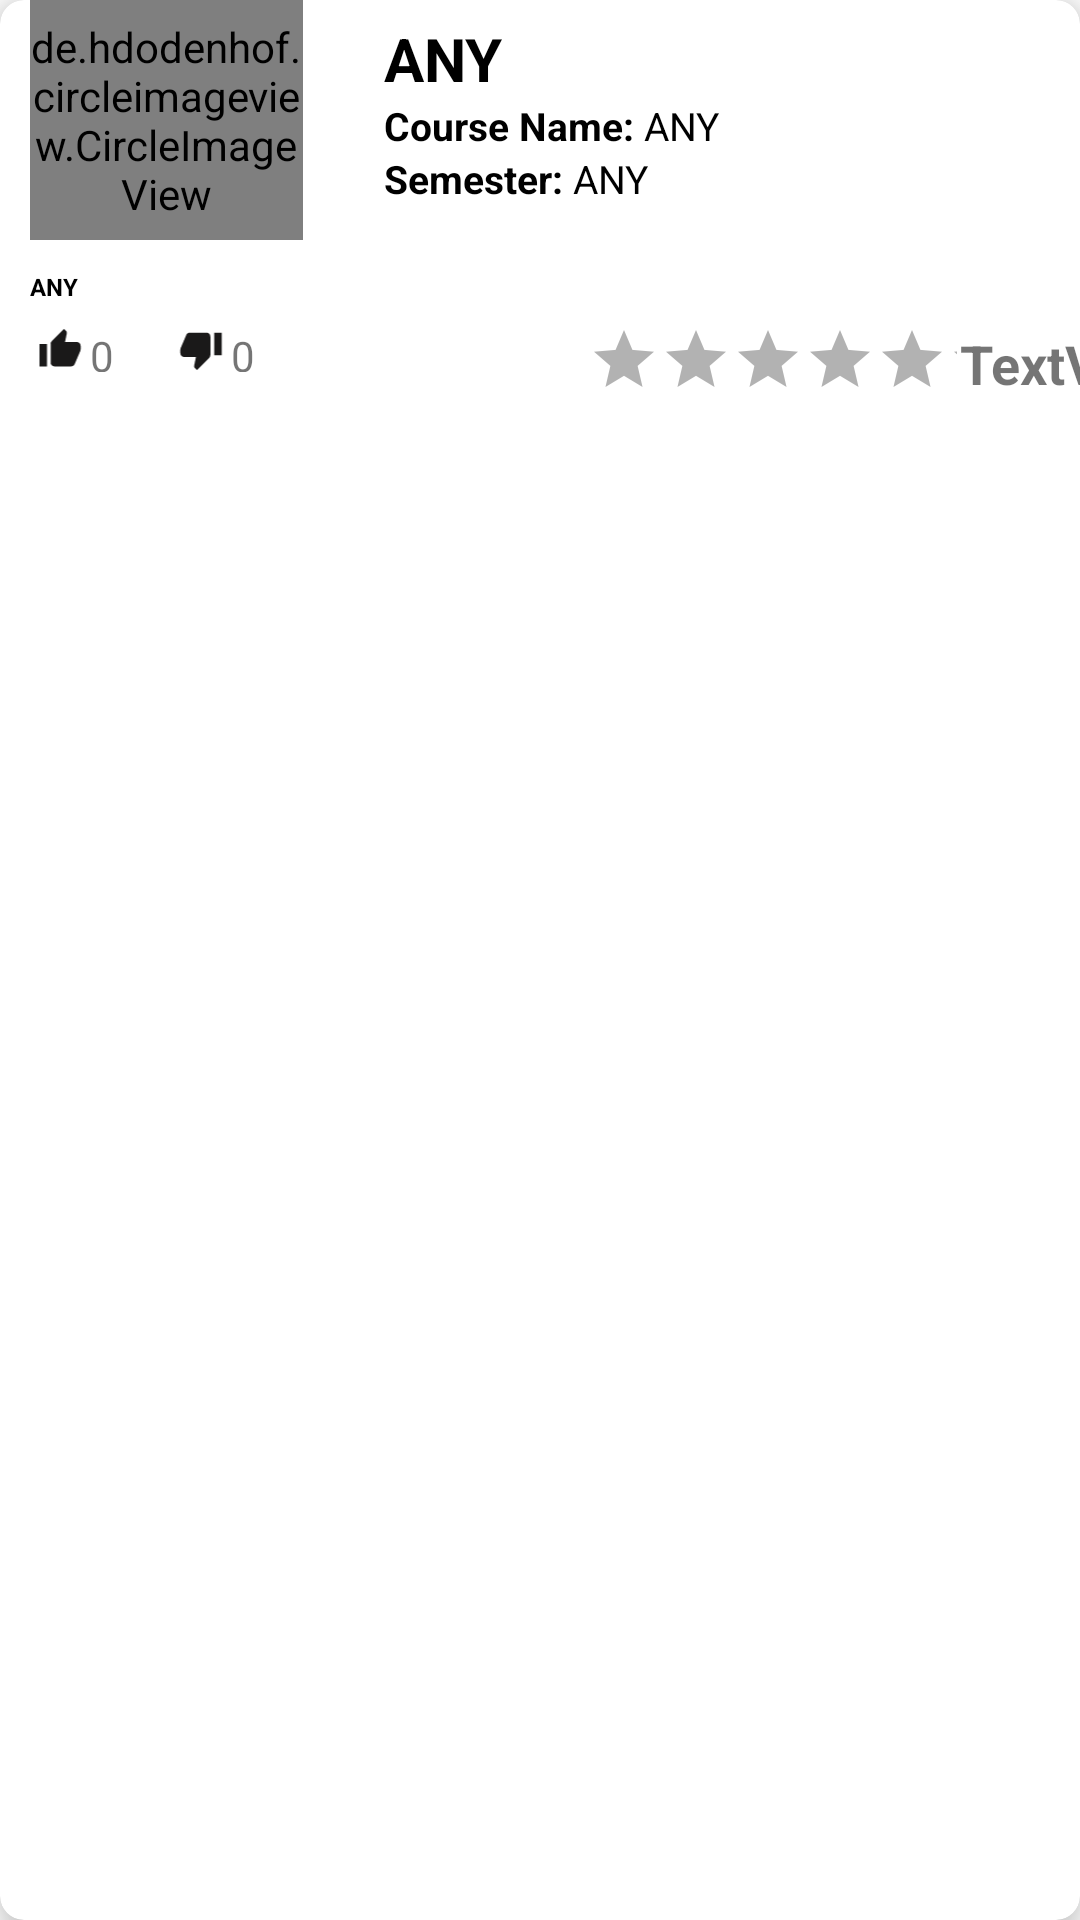

Icons on this 1080px×1920px Android screen, each with the point to tap as (x,y):
thumb down: (201,351)
thumb up: (60,348)
